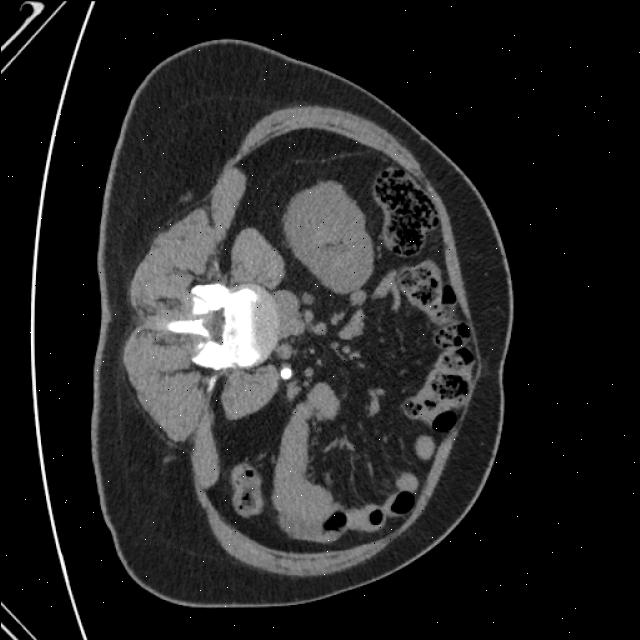kidneystone: (279, 365, 291, 378)
